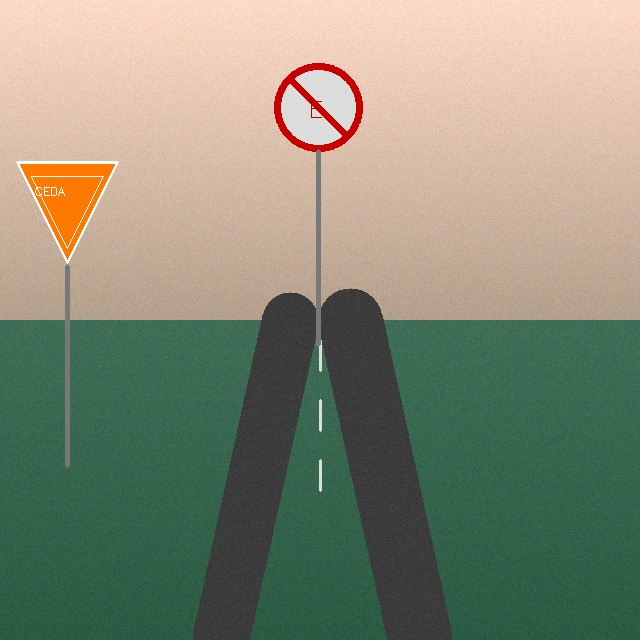ceda_el_paso: (13, 158, 121, 266)
no_estacionar: (275, 64, 362, 151)
